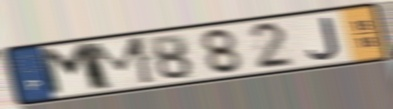2: (248, 20, 296, 71)
8: (149, 34, 195, 81), (199, 27, 243, 75)
J: (305, 15, 342, 61)
M: (35, 40, 111, 98), (86, 34, 158, 93)
